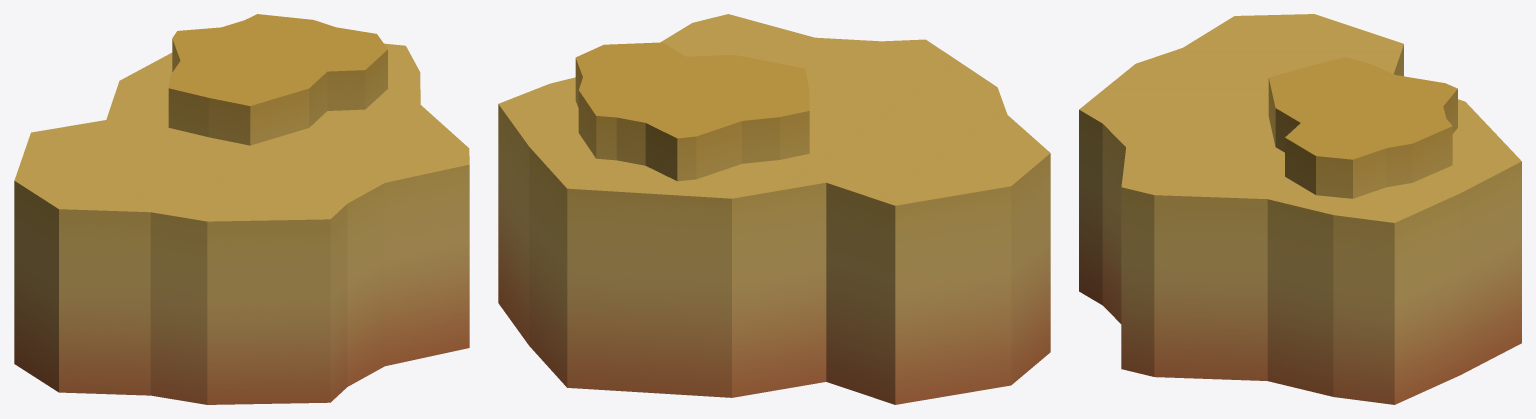
File: Canyon_Mountains_004.FBX
3 views of the same model, side by side, from view 1: azimuth 30°, elevation 25°; view 2: azimuth 150°, elevation 25°; view 3: azimuth 270°, elevation 25° (orthographic). The views are drawn at different scales.
Parts seen in each view (by area): view 1: Canyon_Mountains_004; view 2: Canyon_Mountains_004; view 3: Canyon_Mountains_004.
Boxes of the visible parts, bbox=[...] form: Canyon_Mountains_004: bbox=[14, 14, 469, 404]; Canyon_Mountains_004: bbox=[498, 14, 1050, 404]; Canyon_Mountains_004: bbox=[1079, 14, 1521, 404].
Bounding box in the file's own units: 416 × 205 × 373.
Materials: 1 (1 with a texture image).
